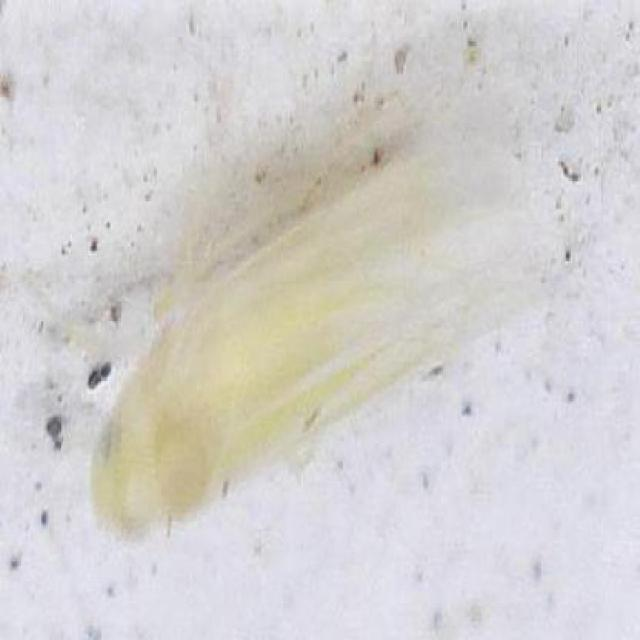green-leafhopper: (89, 88, 562, 544)
